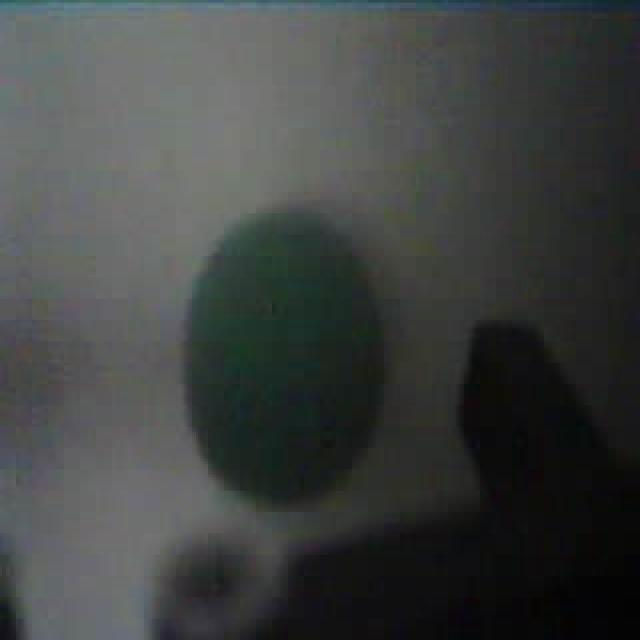green_ball: (180, 200, 390, 507)
